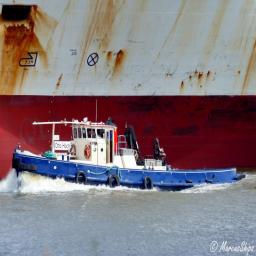tugboat: (12, 118, 249, 198)
